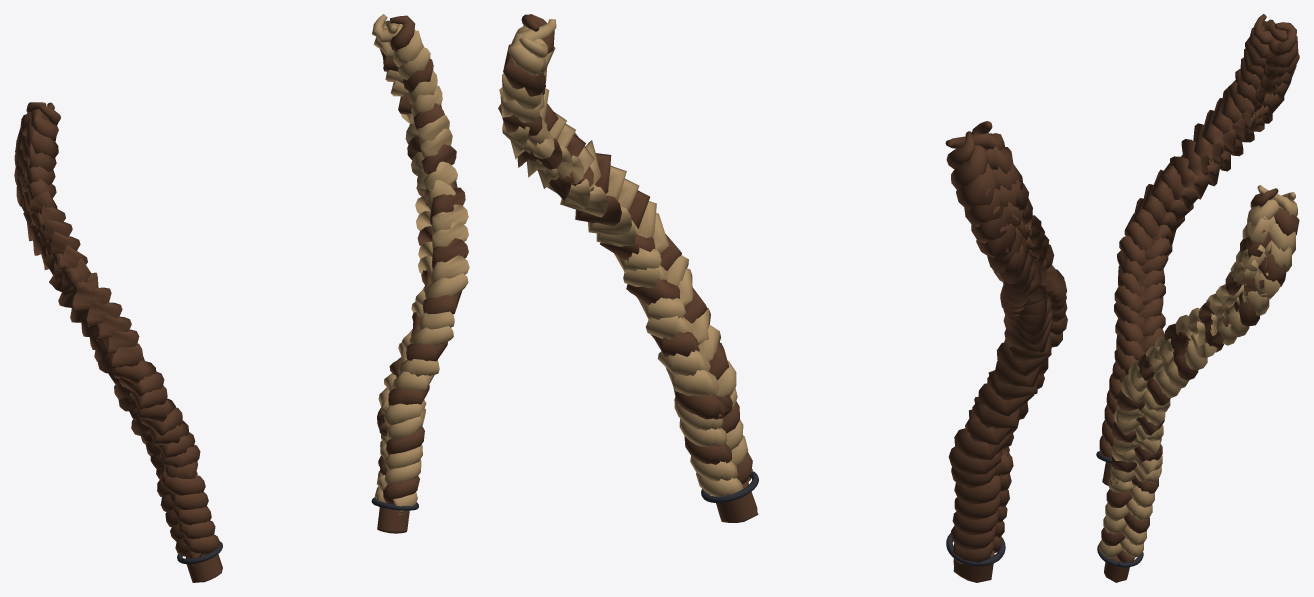
The model's file is Highlights-cec6057251c1251-hair.glb.
The picture shows the model from 3 angles, left to right: view 1: azimuth 30°, elevation 25°; view 2: azimuth 150°, elevation 25°; view 3: azimuth 270°, elevation 25°; orthographic projection. The views are drawn at different scales.
Visible parts, largest first — view 1: 226 hairLengths / Hair / chestnut226, 226 hairLengths / Hair / ties226; view 2: 226 hairLengths / Hair / chestnut226, 226 hairLengths / Hair / ties226; view 3: 226 hairLengths / Hair / chestnut226, 226 hairLengths / Hair / ties226.
Part boxes in pixels (x1,y1,x2,y2): 226 hairLengths / Hair / chestnut226: [14, 14, 469, 582]; 226 hairLengths / Hair / ties226: [177, 497, 418, 564]; 226 hairLengths / Hair / chestnut226: [498, 14, 1067, 582]; 226 hairLengths / Hair / ties226: [701, 471, 1005, 566]; 226 hairLengths / Hair / chestnut226: [1099, 14, 1299, 582]; 226 hairLengths / Hair / ties226: [1096, 451, 1143, 567].
Bounding box in the file's own units: 1.03 × 1.05 × 0.4513.
